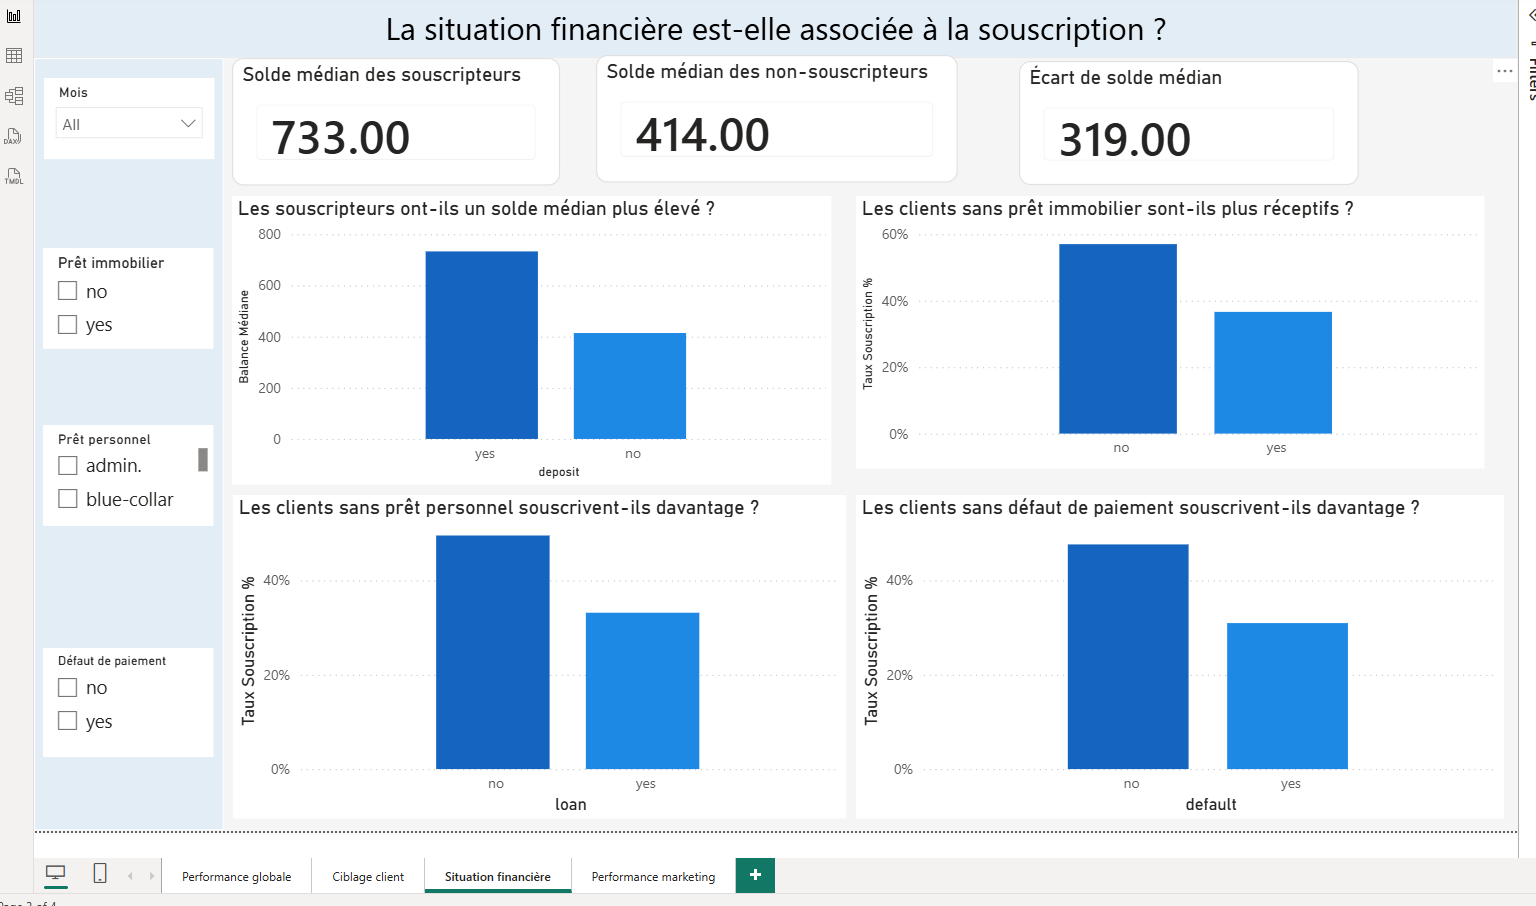

The page's visual inventory and layout, read from the dashboard file:
{"tool":"powerbi","page":{"name":"Situation financière","canvas":[1280,720],"ordinal":2},"visuals":[{"type":"cardVisual","title":"Solde médian des souscripteurs","fields":{"Data":["bank.Solde médian souscripteurs"]},"box":[170.5,53.5,283,109.8],"z":0},{"type":"shape","title":"Performance globale de la campagne bancaire","box":[0,0,1280,53.5],"z":1000},{"type":"shape","box":[0,53.5,163.7,666.3],"z":2000},{"type":"slicer","title":"MOIS","fields":{"Values":["bank.month"]},"box":[8.2,71.1,147.3,70],"z":3000},{"type":"slicer","fields":{"Values":["bank.job"]},"box":[8.2,370.1,147,87.1],"z":4000},{"type":"slicer","fields":{"Values":["bank.housing"]},"box":[8.2,217.7,147,87.1],"z":5000},{"type":"clusteredColumnChart","title":"Les clients sans prêt immobilier sont-ils plus réceptifs ?","fields":{"Category":["bank.housing"],"Y":["bank.Taux Souscription %"]},"box":[709.4,172.4,541.6,235],"z":6000},{"type":"slicer","fields":{"Values":["bank.default"]},"box":[8.2,562.4,147,94.3],"z":7000},{"type":"cardVisual","title":"Solde médian des non-souscripteurs","fields":{"Data":["bank.Solde médian non-souscripteurs"]},"box":[484.4,50.8,312.1,109.8],"z":8000},{"type":"cardVisual","title":"Écart de solde médian","fields":{"Data":["bank.Écart solde médian"]},"box":[850,56.2,293,107],"z":9000},{"type":"clusteredColumnChart","title":"Les souscripteurs ont-ils un solde médian plus élevé ?","fields":{"Category":["bank.deposit"],"Y":["bank.Balance Médiane"]},"box":[170.5,172.4,517.1,248.6],"z":10000},{"type":"clusteredColumnChart","title":"Les clients sans prêt personnel souscrivent-ils davantage ?","fields":{"Category":["bank.loan"],"Y":["bank.Taux Souscription %"]},"box":[171.5,430,528.9,279.4],"z":11000},{"type":"clusteredColumnChart","title":"Les clients sans défaut de paiement souscrivent-ils davantage ?","fields":{"Category":["bank.default"],"Y":["bank.Taux Souscription %"]},"box":[709.4,430,558.8,279.4],"z":12000}]}

Visuals, with their boxes on the page's 1280x720 design canvas (x1, y1, x2, y2). These are canvas units, not pixel positions in the 1536x906 screenshot, which may show the page scaled, cropped or inside an application window:
"Solde médian des souscripteurs" cardVisual: x1=170 y1=54 x2=454 y2=163
"Performance globale de la campagne bancaire" shape: x1=0 y1=0 x2=1280 y2=54
shape: x1=0 y1=54 x2=164 y2=720
"MOIS" slicer: x1=8 y1=71 x2=156 y2=141
slicer - bank.job: x1=8 y1=370 x2=155 y2=457
slicer - bank.housing: x1=8 y1=218 x2=155 y2=305
"Les clients sans prêt immobilier sont-ils plus réceptifs ?" clusteredColumnChart: x1=709 y1=172 x2=1251 y2=407
slicer - bank.default: x1=8 y1=562 x2=155 y2=657
"Solde médian des non-souscripteurs" cardVisual: x1=484 y1=51 x2=796 y2=161
"Écart de solde médian" cardVisual: x1=850 y1=56 x2=1143 y2=163
"Les souscripteurs ont-ils un solde médian plus élevé ?" clusteredColumnChart: x1=170 y1=172 x2=688 y2=421
"Les clients sans prêt personnel souscrivent-ils davantage ?" clusteredColumnChart: x1=172 y1=430 x2=700 y2=709
"Les clients sans défaut de paiement souscrivent-ils davantage ?" clusteredColumnChart: x1=709 y1=430 x2=1268 y2=709
